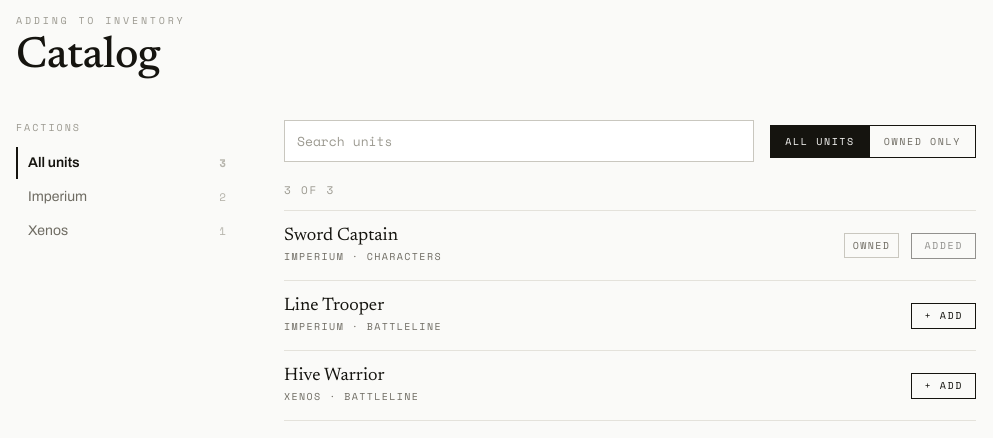
CatalogView › wires the search input to the q filter
Expected: the text "Sword Captain" is shown, [284, 227, 398, 245]
Type "hive" into the search field labelled "Search units". click: (519, 141)
box: [284, 120, 754, 162]
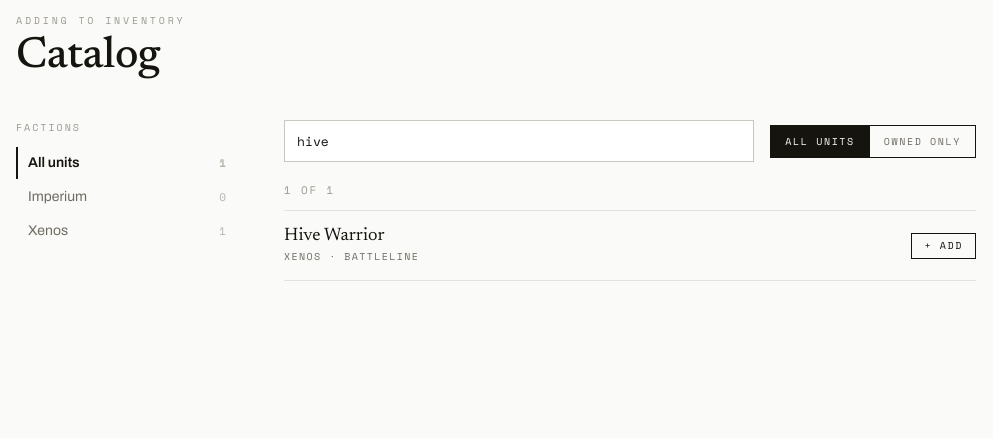
Expected: the text "Hive Warrior" is shown, [284, 227, 385, 245]
Now the text "Sword Captain" is gone
